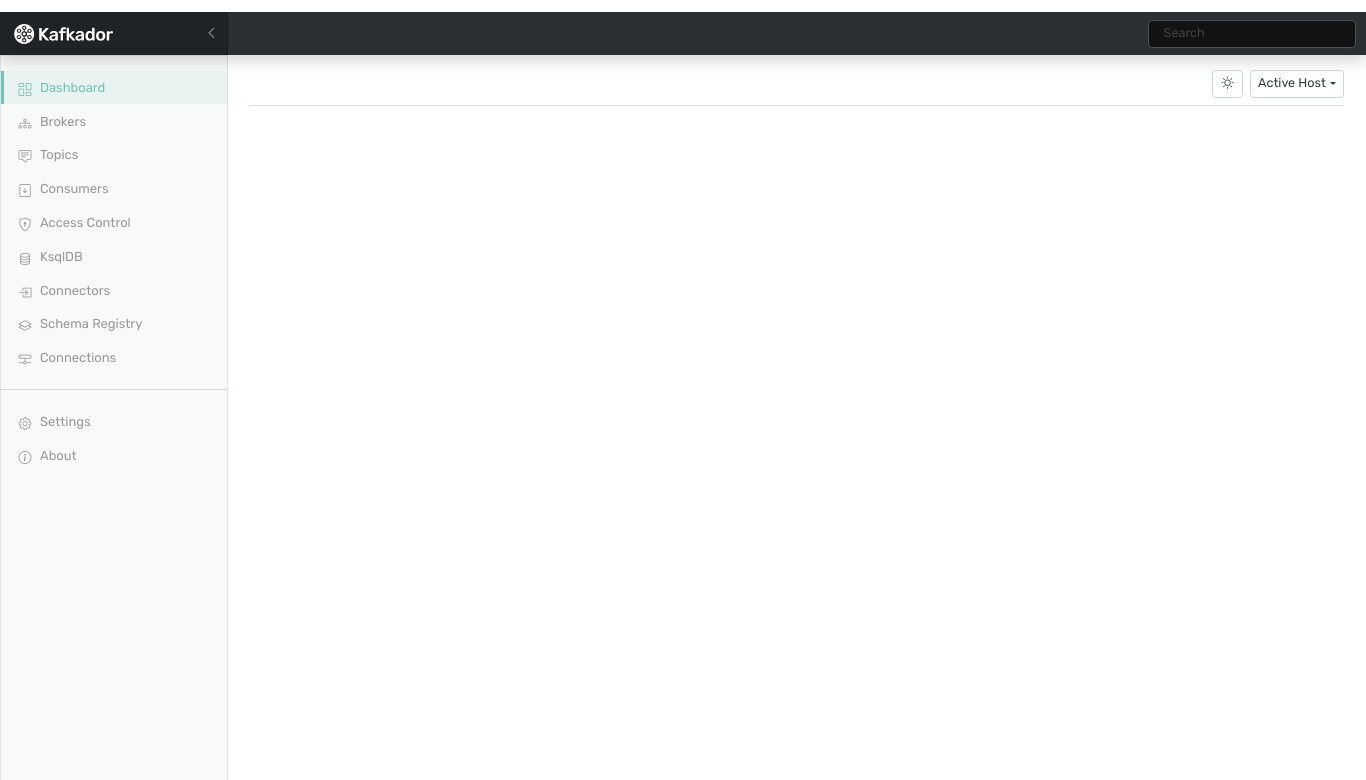
it: DashboardLayoutComponent › collapses the menu to its icons, with each label as a tooltip
The width and height of the screenshot is (1366, 780).
Click the button with class "sidebar-toggle".
click(212, 34)  # box [195,12,228,55]
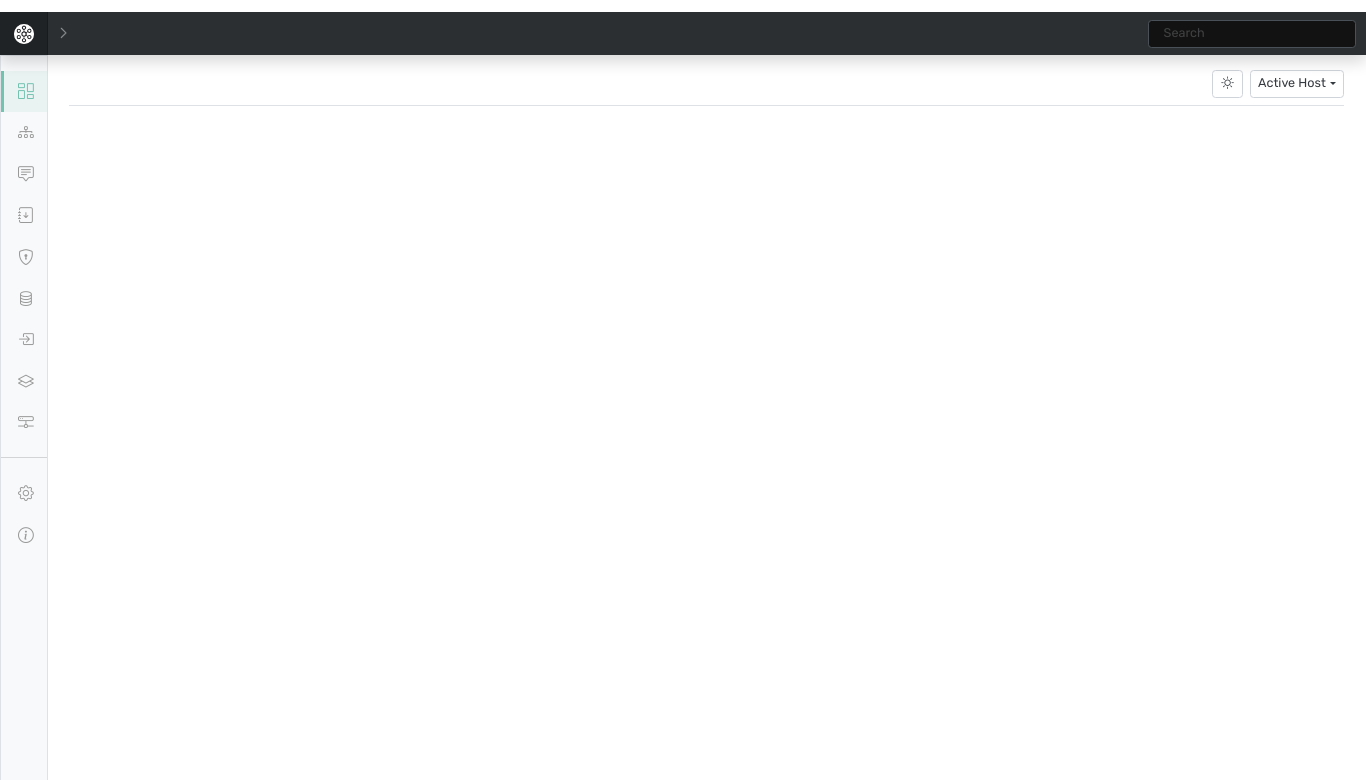
Expected: the button with class "sidebar-toggle" is collapsed, [48,12,80,55]
